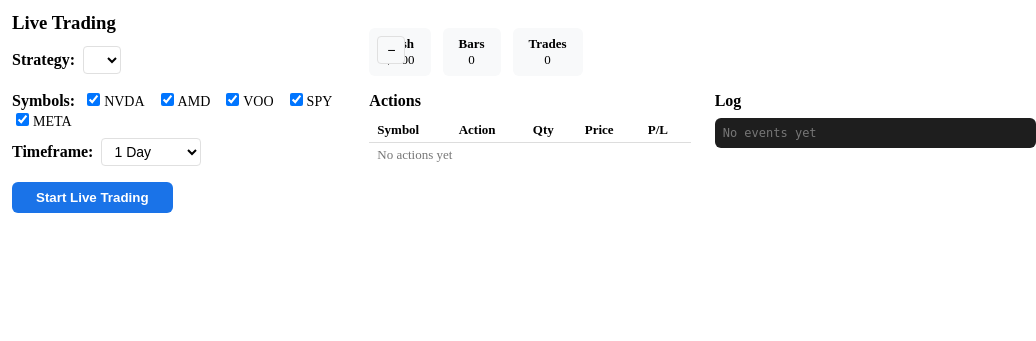
Test: Live Page › shows Stop Live Trading button after starting
Click the button "Start Live Trading": click(92, 198) [12,182,173,213]
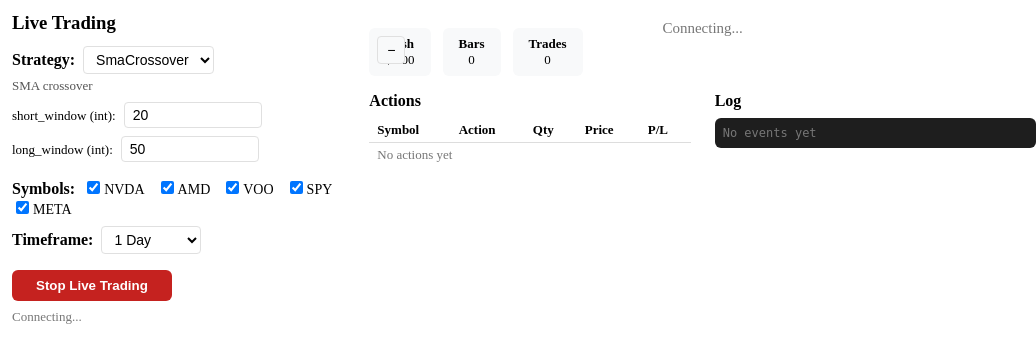
Now the button "Stop Live Trading" is shown, box [12,270,172,301]
